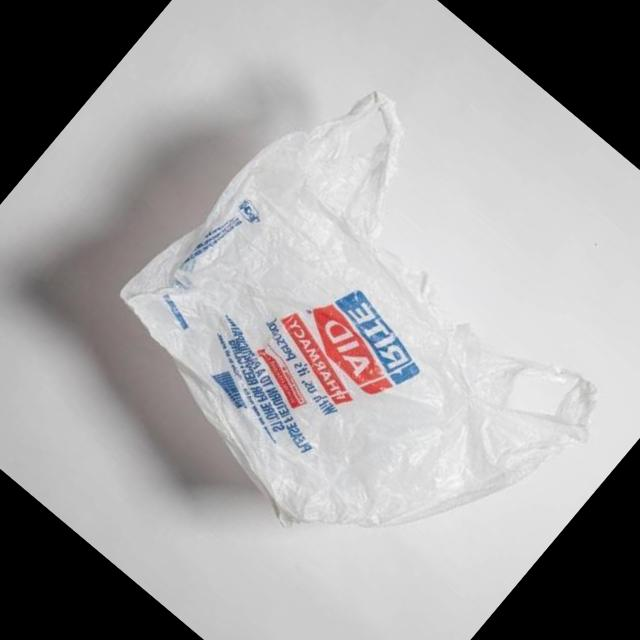KantongPlastik: (70, 42, 640, 640)
